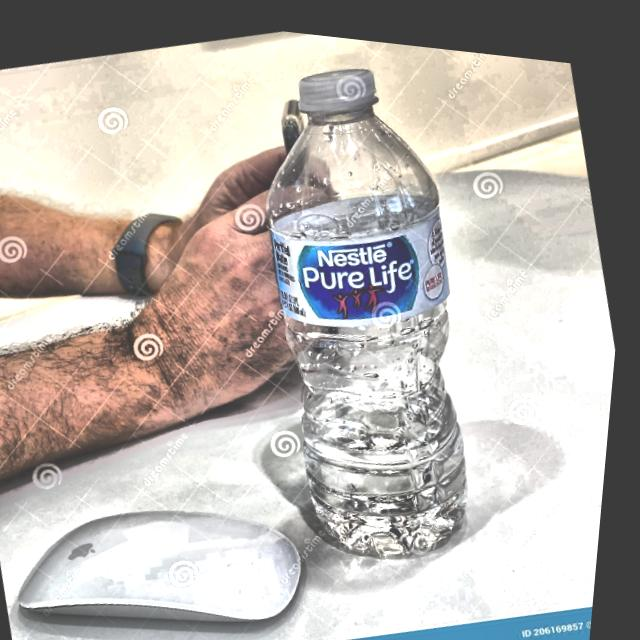Bottles: (194, 20, 559, 602)
